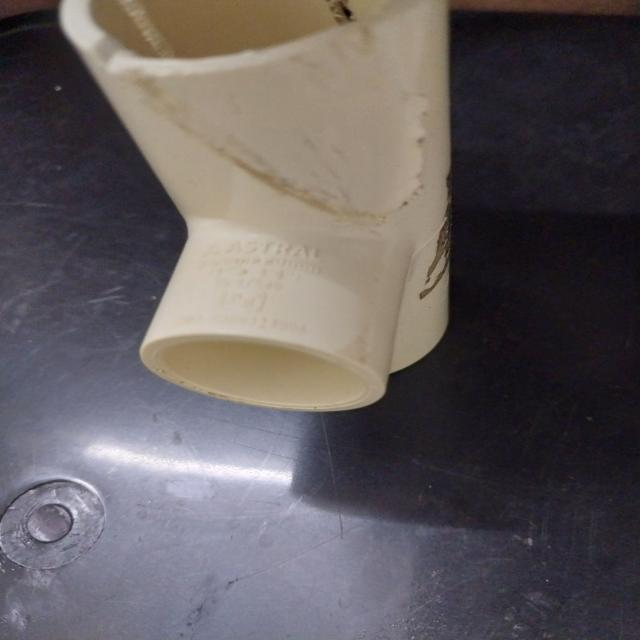Defective: (182, 109, 358, 234), (404, 91, 434, 231), (416, 254, 454, 307), (318, 3, 375, 27)
